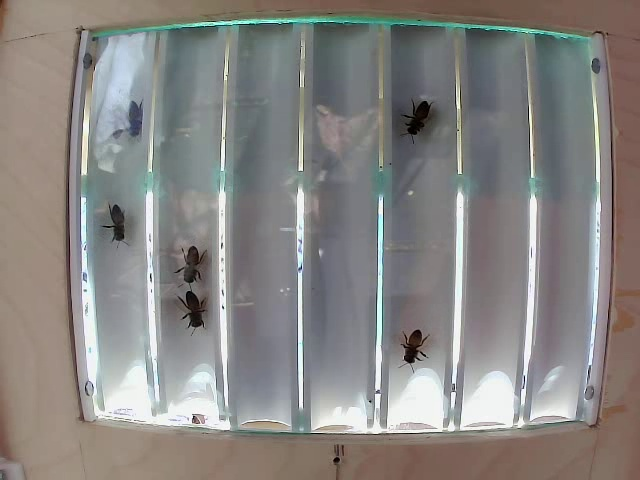bee: (385, 311, 438, 366), (172, 287, 218, 332), (93, 194, 132, 245), (122, 87, 155, 145), (395, 90, 424, 140), (177, 243, 205, 281)
